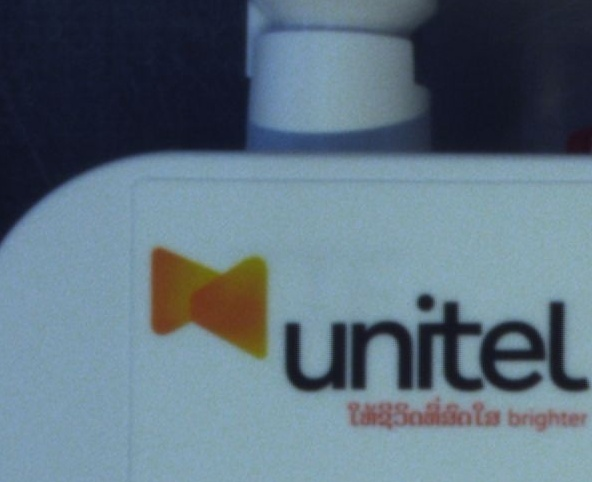BT_unitel: (145, 246, 588, 431)
